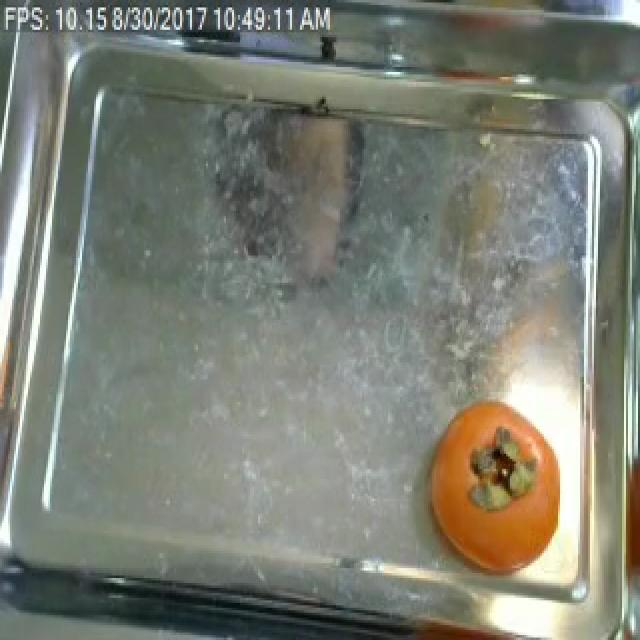Fruit: (420, 390, 566, 586)
